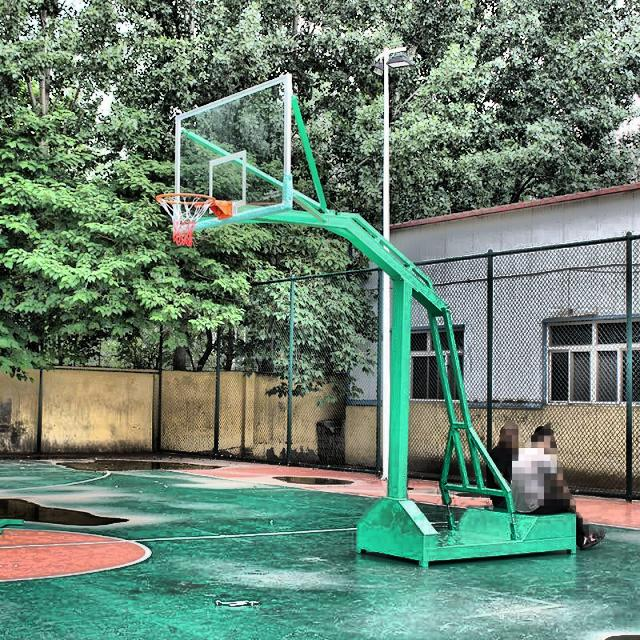rim: (157, 193, 210, 248)
